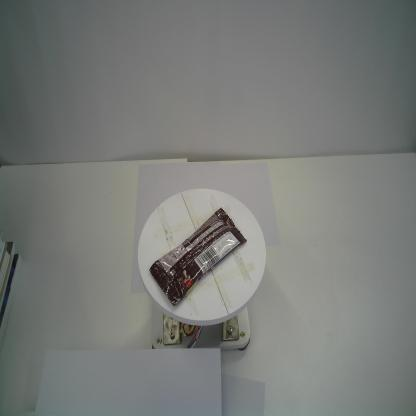Chocolate: (149, 207, 247, 307)
